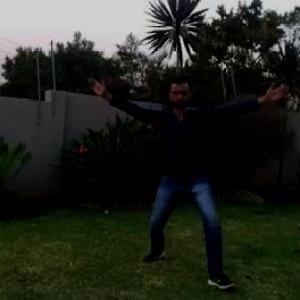takeoff: (88, 79, 284, 255)
